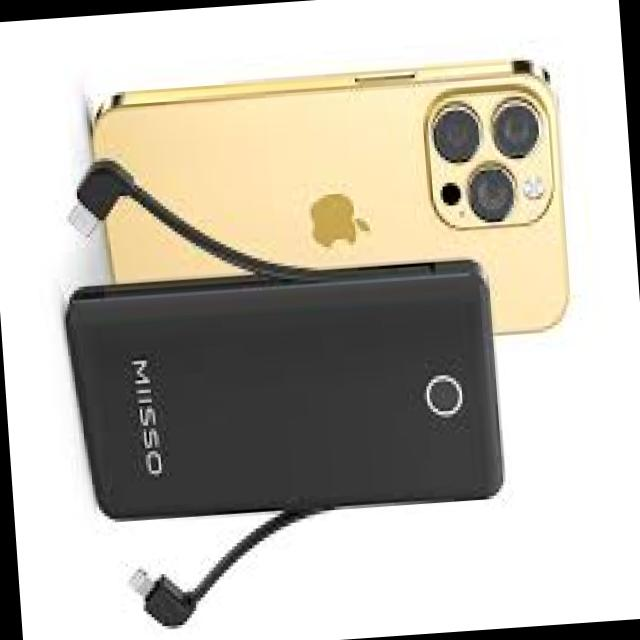power_bank: (67, 257, 504, 530)
